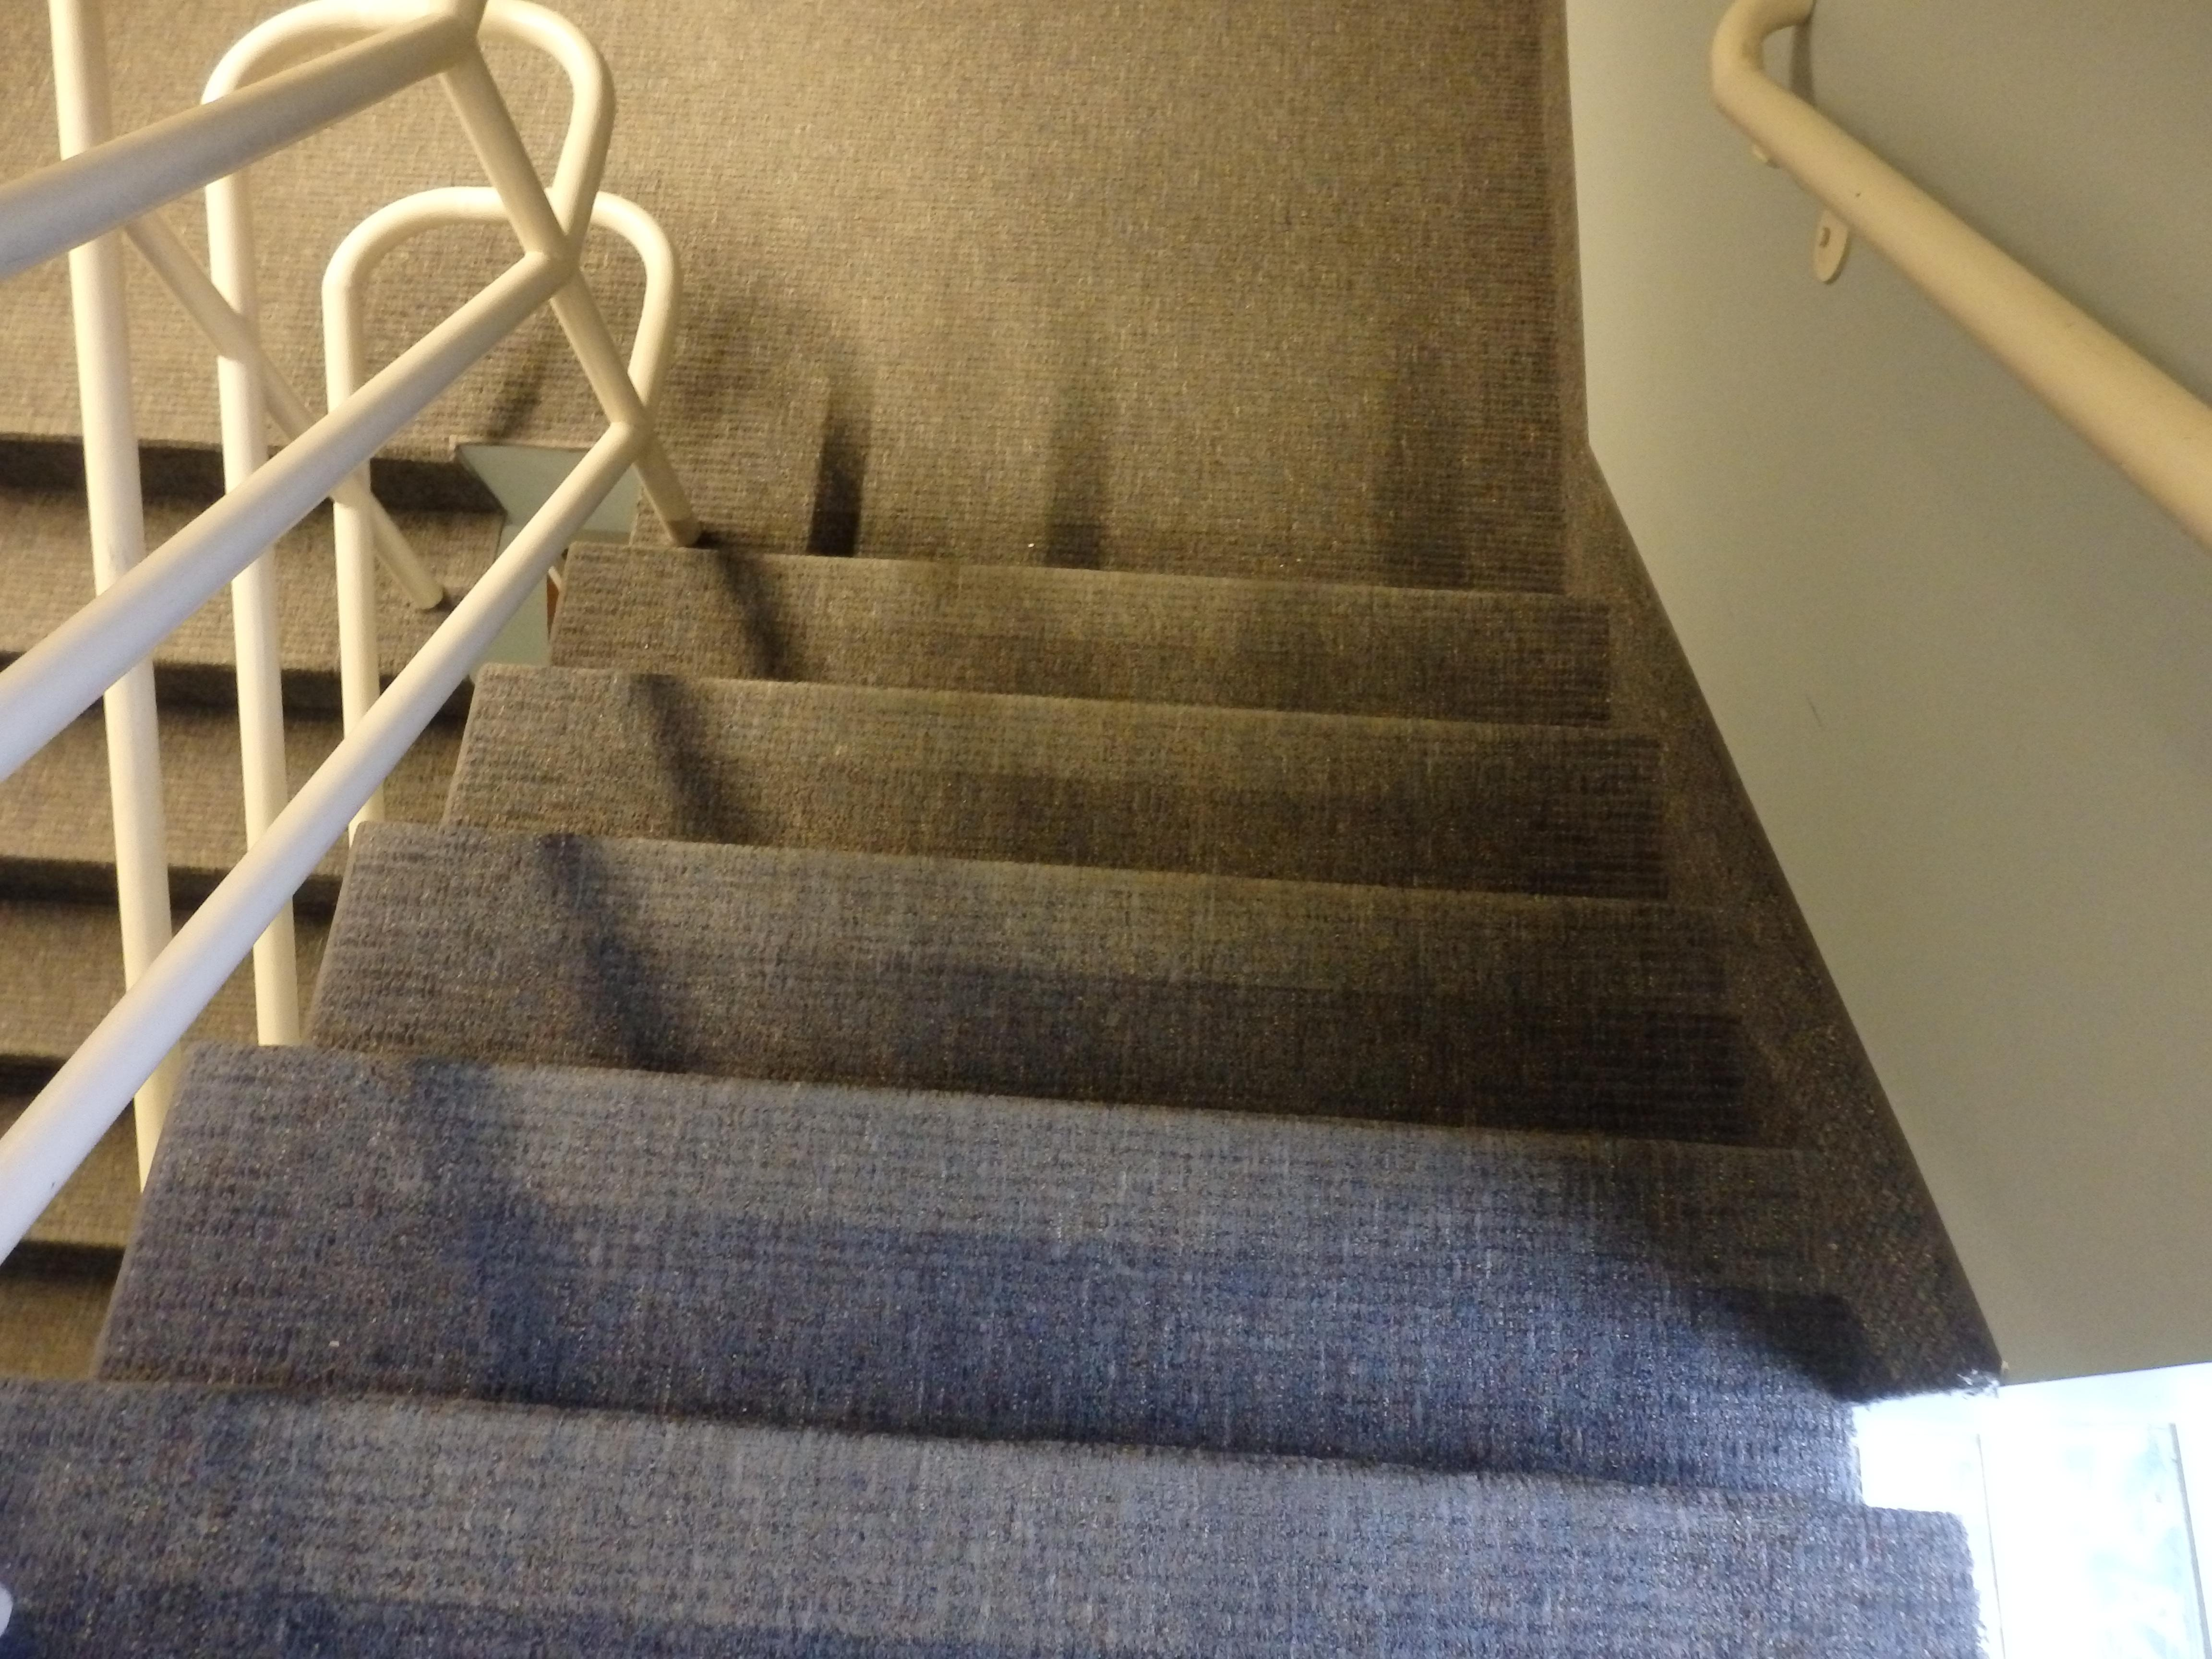stairs_down: (21, 443, 2031, 1645)
